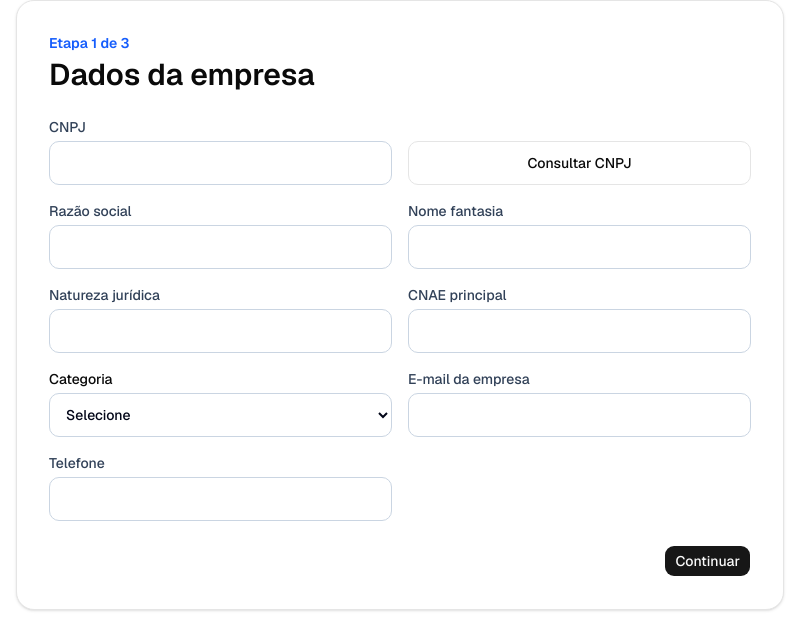
Scenario: TenantOnboarding › disables lookup and announces progress while the request is pending
Type "00000000000191" into the field labelled "CNPJ" at (220, 163), box [49, 141, 392, 185]
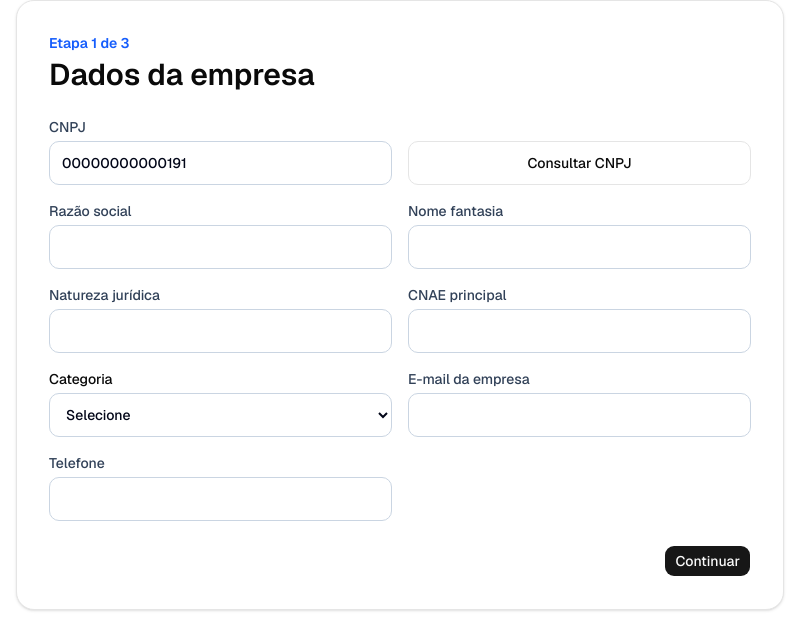
Click the button "Consultar CNPJ" at (580, 163), box [408, 141, 751, 185]
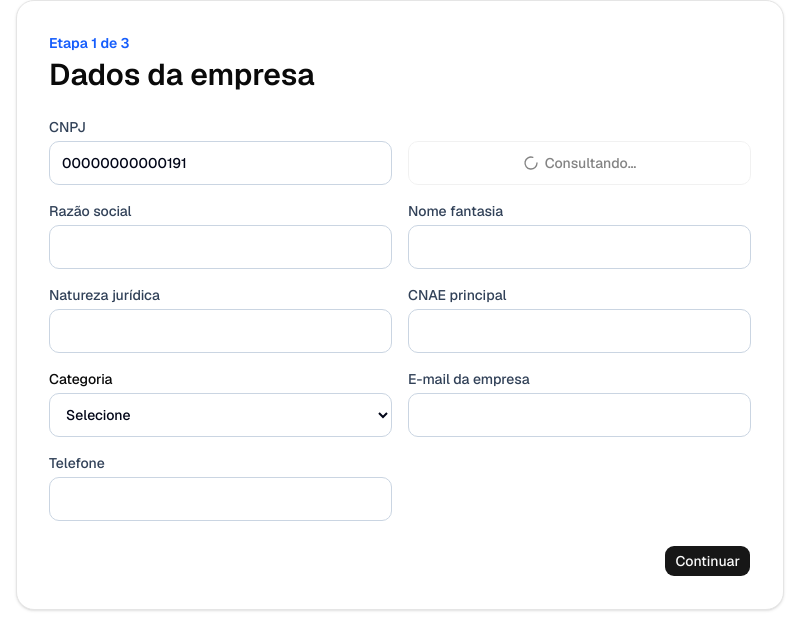
Expected: the button "Consultando…" is disabled, [408, 141, 751, 185]
